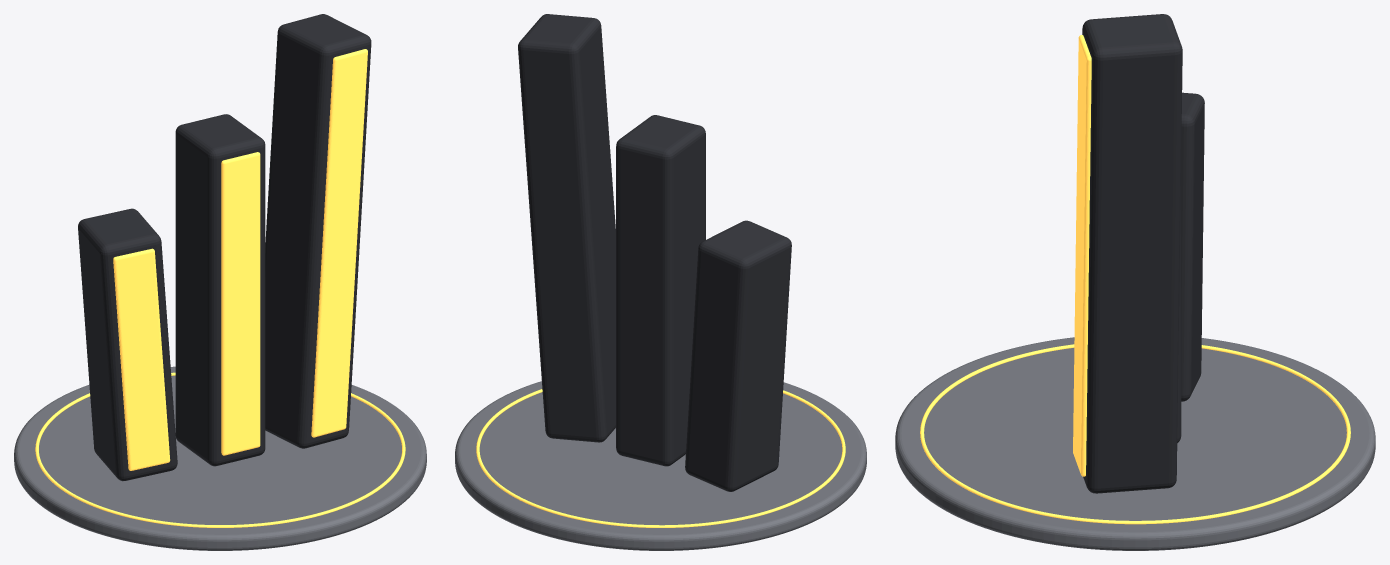
Rendered from sculpture-aurex.glb.
The picture shows the model from 3 angles, left to right: view 1: azimuth 30°, elevation 25°; view 2: azimuth 150°, elevation 25°; view 3: azimuth 270°, elevation 25°; orthographic projection. The views are drawn at different scales.
Visible parts, largest first — view 1: Socle_graphite, Ailette_3_graphite, Ailette_2_graphite, Ailette_3_cobalt, Ailette_1_graphite, Ailette_2_cobalt, Ailette_1_cobalt, Filet_cobalt; view 2: Socle_graphite, Ailette_3_graphite, Ailette_2_graphite, Ailette_1_graphite, Filet_cobalt; view 3: Socle_graphite, Ailette_3_graphite, Ailette_1_graphite, Ailette_3_cobalt, Filet_cobalt, Ailette_2_graphite.
Part boxes in pixels (x1,y1,x2,y2): Socle_graphite: (14, 366, 426, 550); Ailette_3_graphite: (265, 14, 371, 448); Ailette_2_graphite: (175, 114, 265, 466); Ailette_3_cobalt: (311, 49, 367, 437); Ailette_1_graphite: (78, 208, 177, 481); Ailette_2_cobalt: (221, 152, 260, 455); Ailette_1_cobalt: (113, 248, 170, 470); Filet_cobalt: (35, 372, 405, 527); Socle_graphite: (455, 381, 866, 550); Ailette_3_graphite: (518, 14, 615, 442); Ailette_2_graphite: (616, 115, 705, 466); Ailette_1_graphite: (685, 220, 791, 491); Filet_cobalt: (476, 389, 845, 527); Socle_graphite: (895, 337, 1375, 550); Ailette_3_graphite: (1082, 14, 1182, 493); Ailette_1_graphite: (1181, 92, 1204, 401); Ailette_3_cobalt: (1073, 35, 1091, 476); Filet_cobalt: (920, 344, 1350, 524); Ailette_2_graphite: (1177, 162, 1181, 442).
Size of the model in its own units: 4.3 by 4.75 by 4.3.
